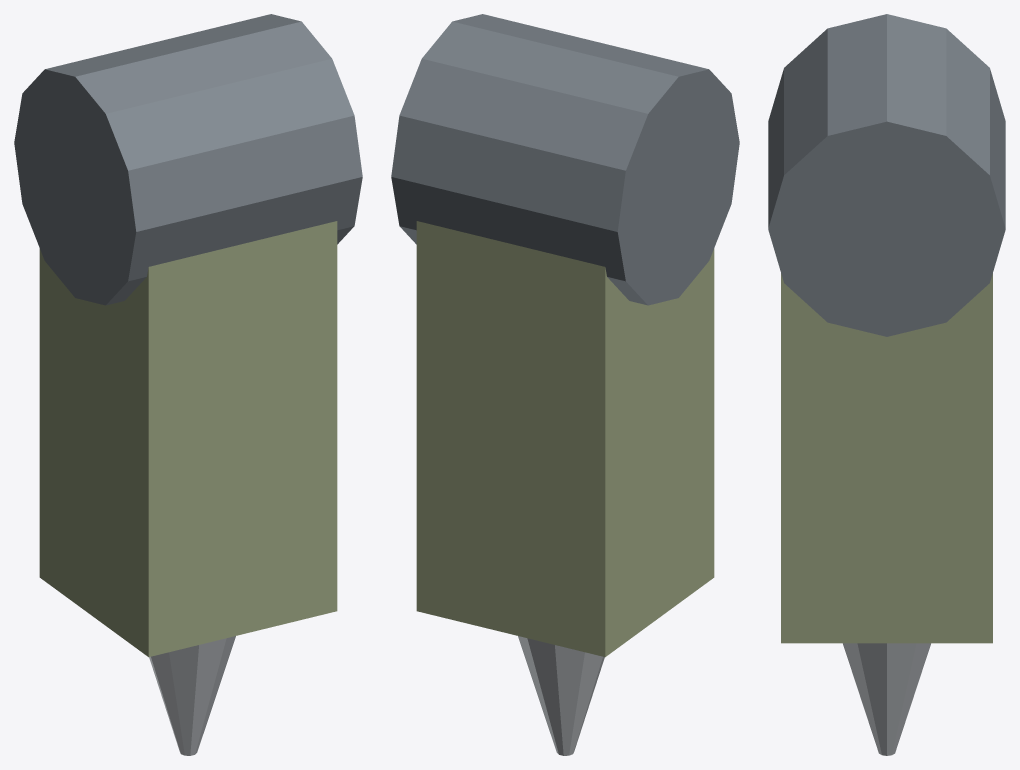
The model's file is mech-hangar-and-battle-frames-survey-drill-arm-27978bcc__26910.glb.
The picture shows the model from 3 angles, left to right: view 1: azimuth 30°, elevation 25°; view 2: azimuth 150°, elevation 25°; view 3: azimuth 270°, elevation 25°; orthographic projection. The views are drawn at different scales.
Parts seen in each view (by area): view 1: survey-drill-arm; view 2: survey-drill-arm; view 3: survey-drill-arm.
Part boxes in pixels (<box>): survey-drill-arm: <box>14,14,362,755</box>; survey-drill-arm: <box>391,14,739,755</box>; survey-drill-arm: <box>768,14,1005,755</box>.
Size of the model in its own units: 0.6 by 1.78 by 0.56.
